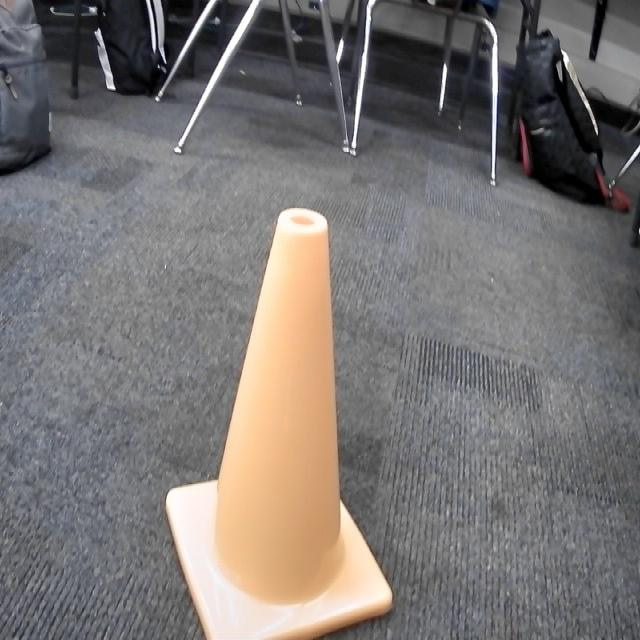cone: (163, 206, 395, 640)
